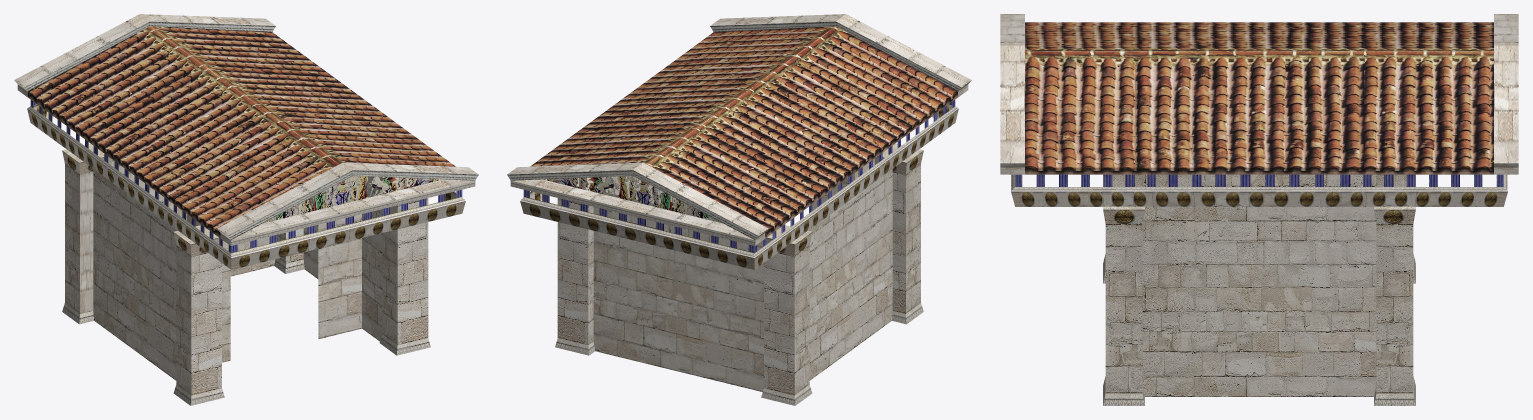
The model's file is hele_temple_b_struct.dae.
3 views of the same model, side by side, from view 1: azimuth 30°, elevation 25°; view 2: azimuth 150°, elevation 25°; view 3: azimuth 270°, elevation 25° (orthographic). The views are drawn at different scales.
Visible parts, largest first — view 1: Temple; view 2: Temple; view 3: Temple.
Part boxes in pixels (x1,y1,x2,y2): Temple: [14, 14, 478, 405]; Temple: [507, 14, 971, 405]; Temple: [1000, 14, 1518, 405].
Bounding box in the file's own units: 15.32 × 22.45 × 13.81.
